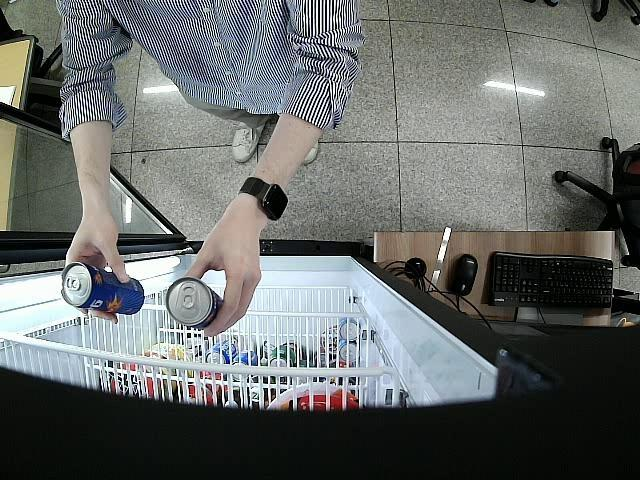16_hot6: (58, 262, 145, 316), (167, 277, 224, 331)
